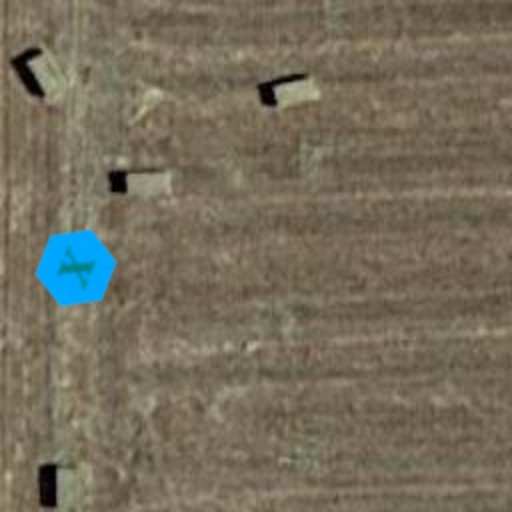hexagon: (22, 214, 130, 322)
